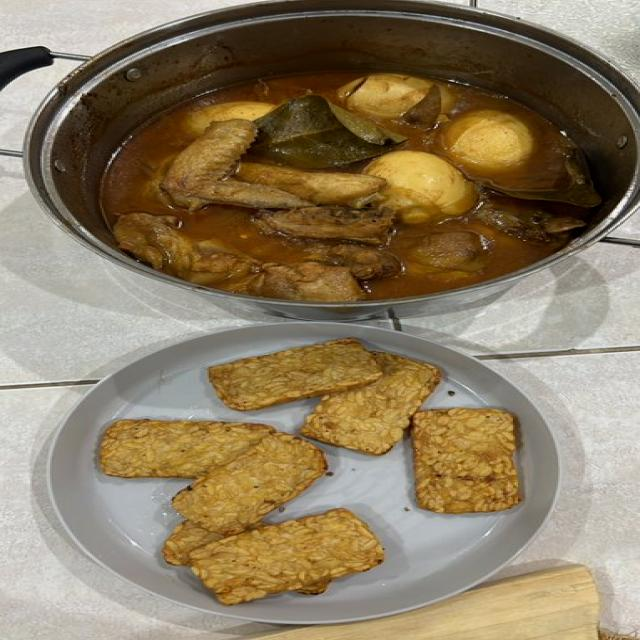tempe goreng: (189, 508, 386, 605), (170, 434, 328, 536), (299, 352, 443, 456), (207, 339, 384, 411), (411, 408, 523, 518), (99, 420, 274, 479)
